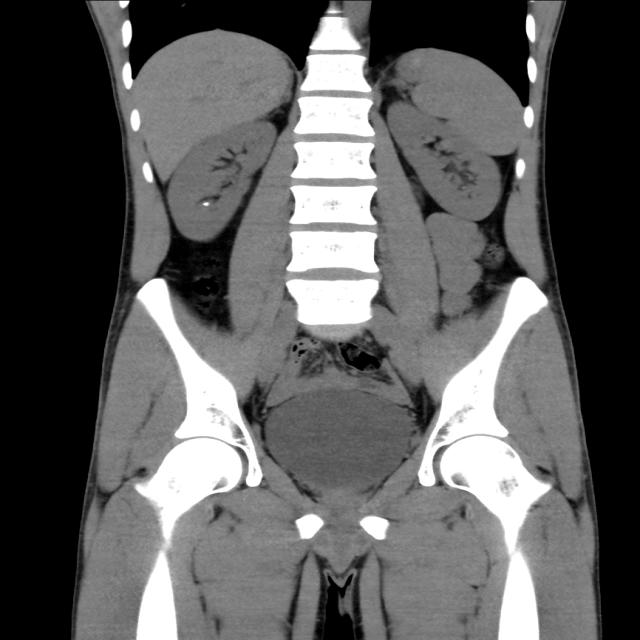kidneystone: (202, 201, 211, 206)
